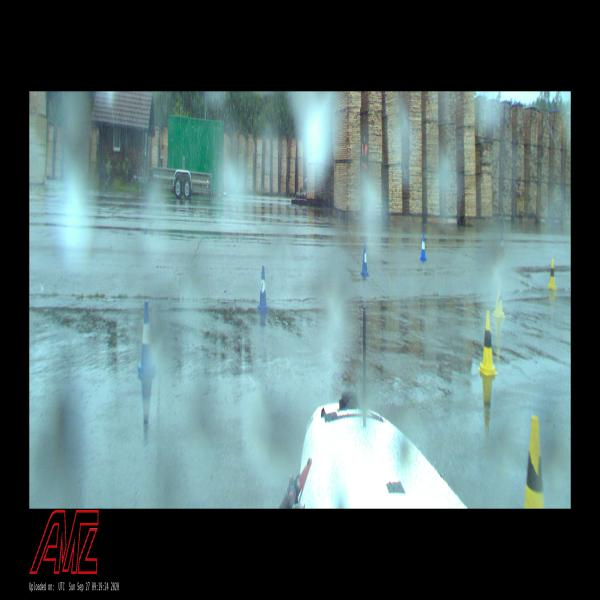blue_cone: (138, 302, 154, 371), (257, 266, 269, 311), (360, 244, 369, 275), (420, 233, 427, 260)
yellow_cone: (524, 416, 544, 507), (478, 312, 496, 373), (494, 287, 505, 318), (548, 260, 556, 290)
